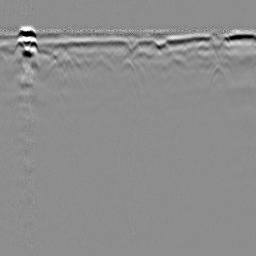cavity: (120, 58, 135, 72)
